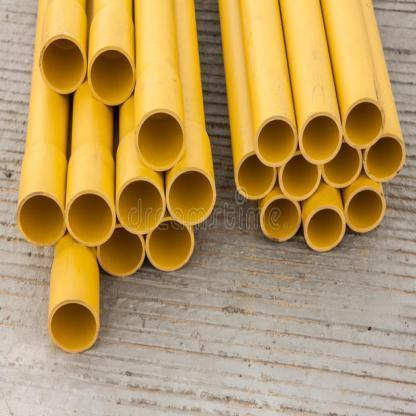pipe: (134, 108, 186, 170), (38, 34, 87, 94), (87, 45, 136, 105), (167, 167, 216, 226), (116, 176, 165, 234), (47, 298, 99, 352), (66, 189, 115, 246), (17, 190, 65, 246), (146, 216, 194, 271), (97, 224, 145, 277), (299, 111, 343, 164), (342, 98, 387, 148), (255, 116, 297, 168), (363, 132, 406, 182), (279, 151, 321, 200), (344, 188, 387, 234), (320, 141, 362, 188), (304, 204, 345, 252), (236, 152, 276, 200), (260, 196, 302, 241)
